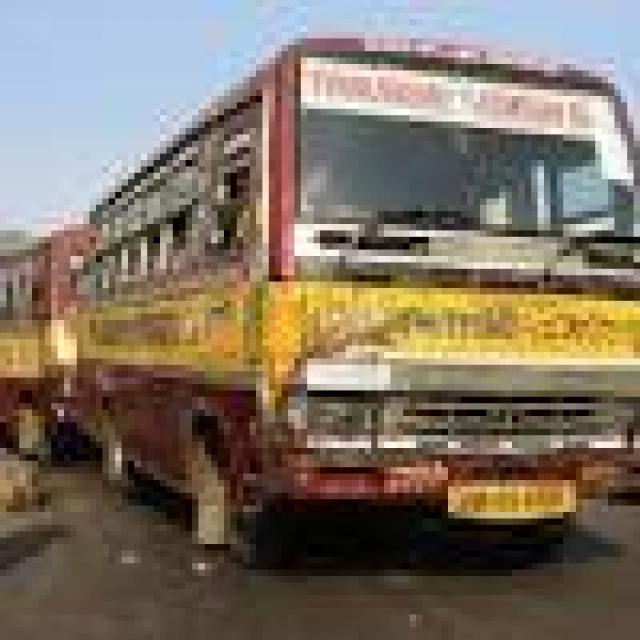BUS: (89, 19, 640, 556)
